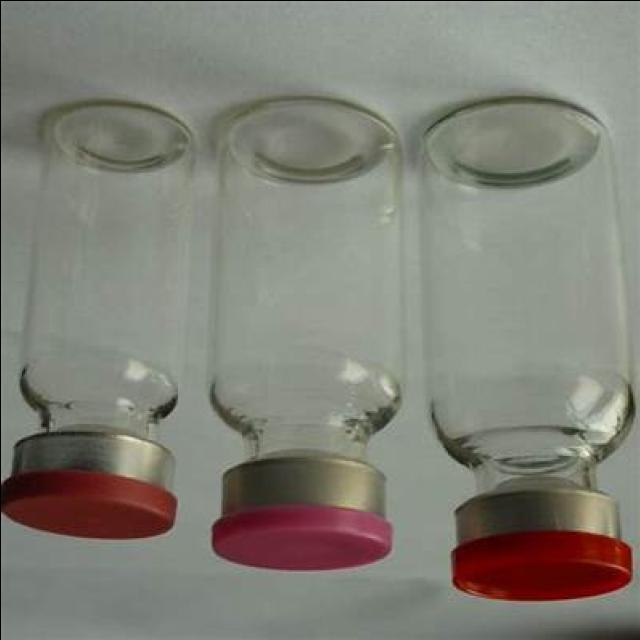vial: (438, 504, 640, 622), (215, 476, 397, 602), (0, 466, 172, 550)
